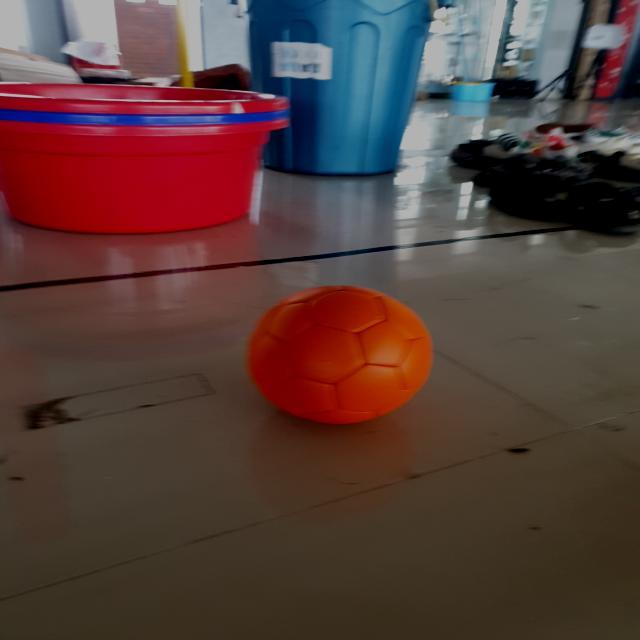bola: (241, 276, 448, 438)
